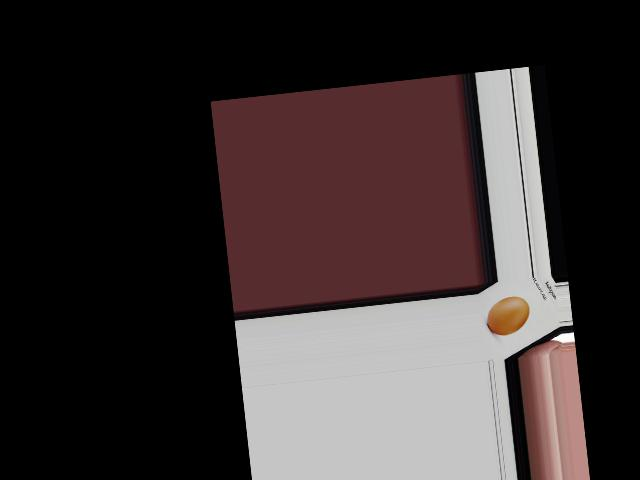egg: (484, 295, 531, 337)
